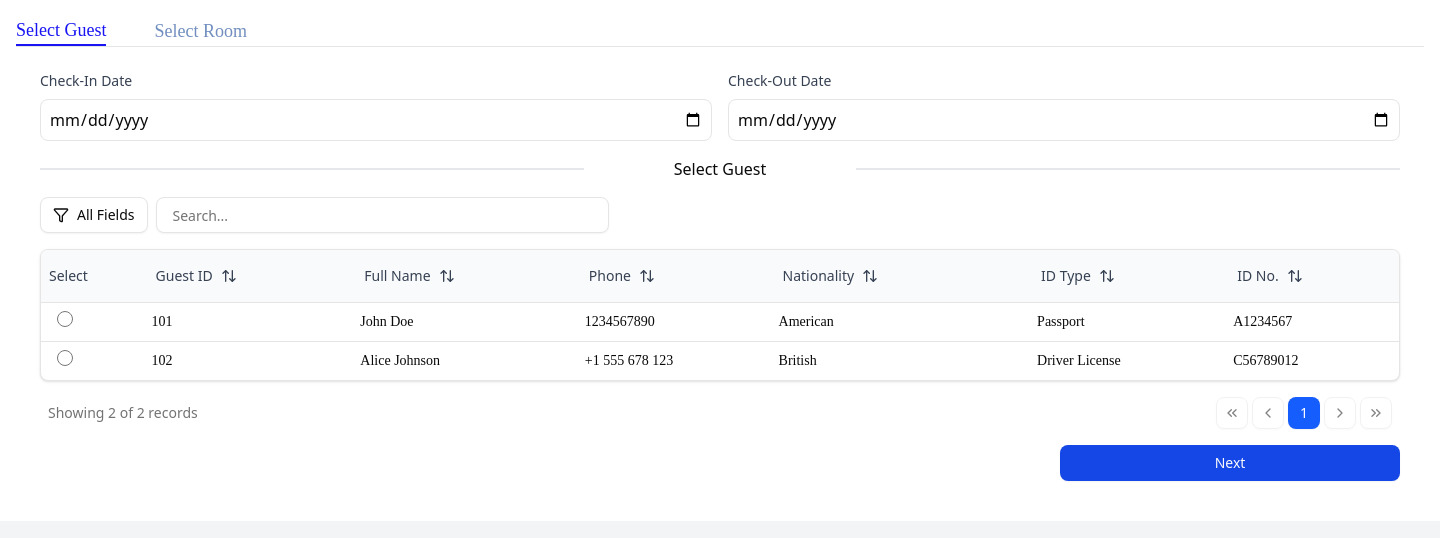
Test: ReservationCreation › transitions to room selection after valid guest selection
The width and height of the screenshot is (1440, 538).
Expected: the date field labelled "Check-Out Date" is shown, [728,99,1400,141]
Expected: the button with test id "next-button" is shown, [1060,445,1400,481]
Type "2025-04-21" into the date field labelled "Check-In Date" at {"x": 376, "y": 120}, box [40,99,712,141]
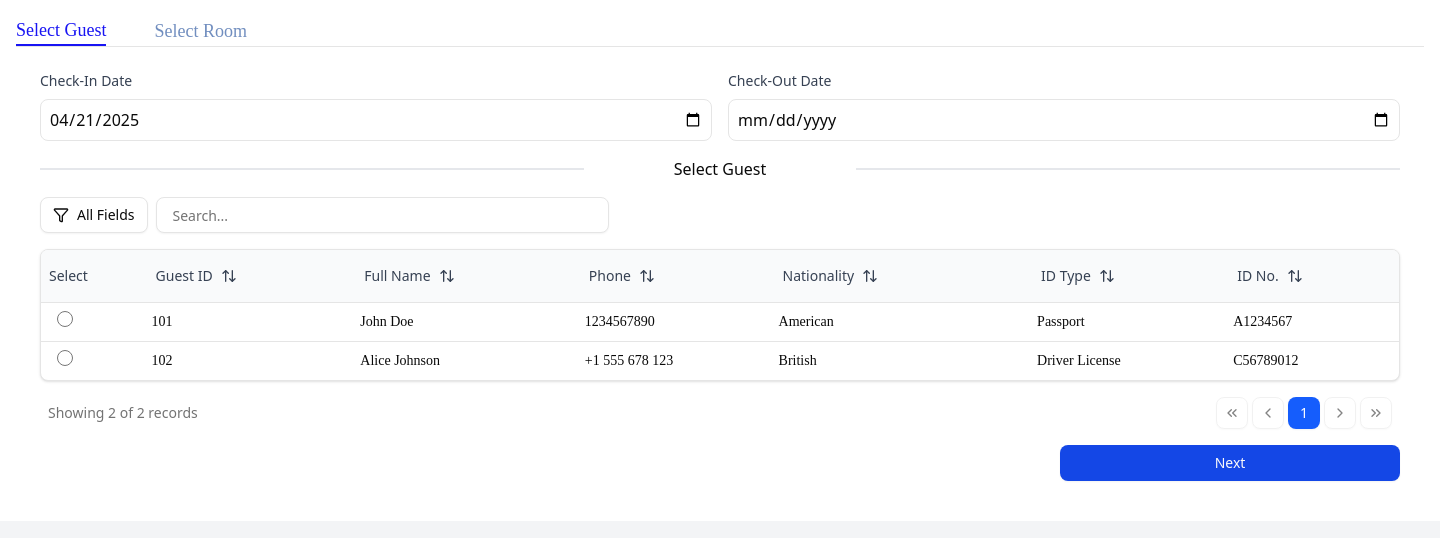
Type "2025-04-25" into the date field labelled "Check-Out Date" at {"x": 1064, "y": 120}, box [728,99,1400,141]
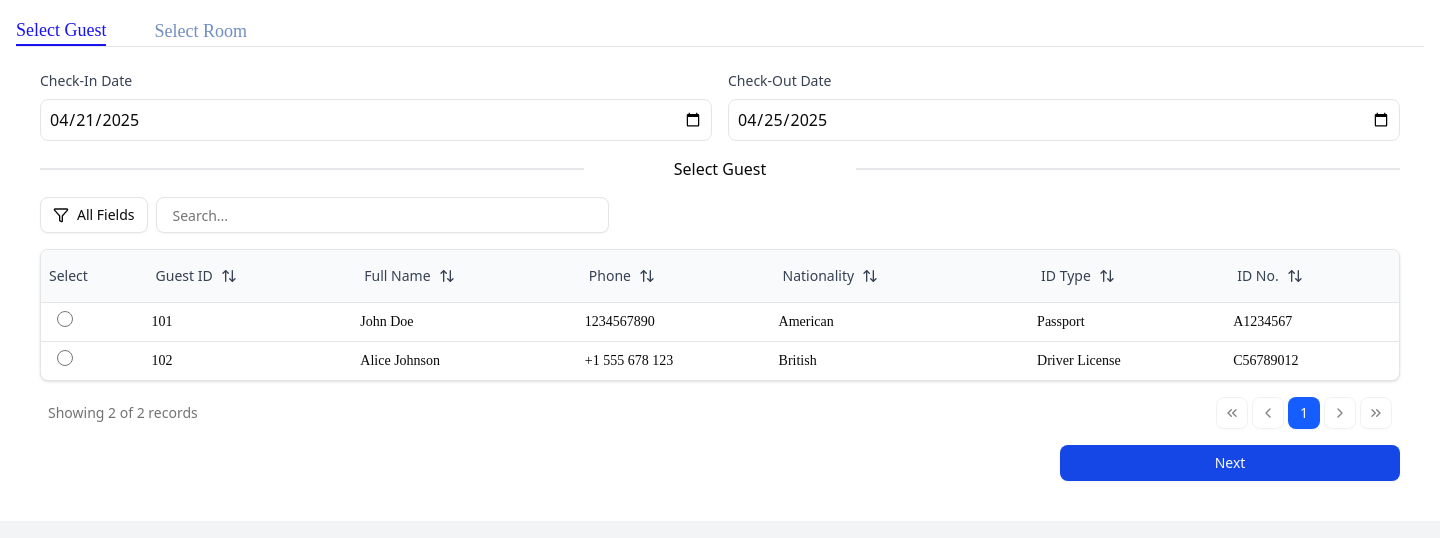
Click the radio button with test id "select-radio-102" at {"x": 65, "y": 358}, box [57,350,73,366]
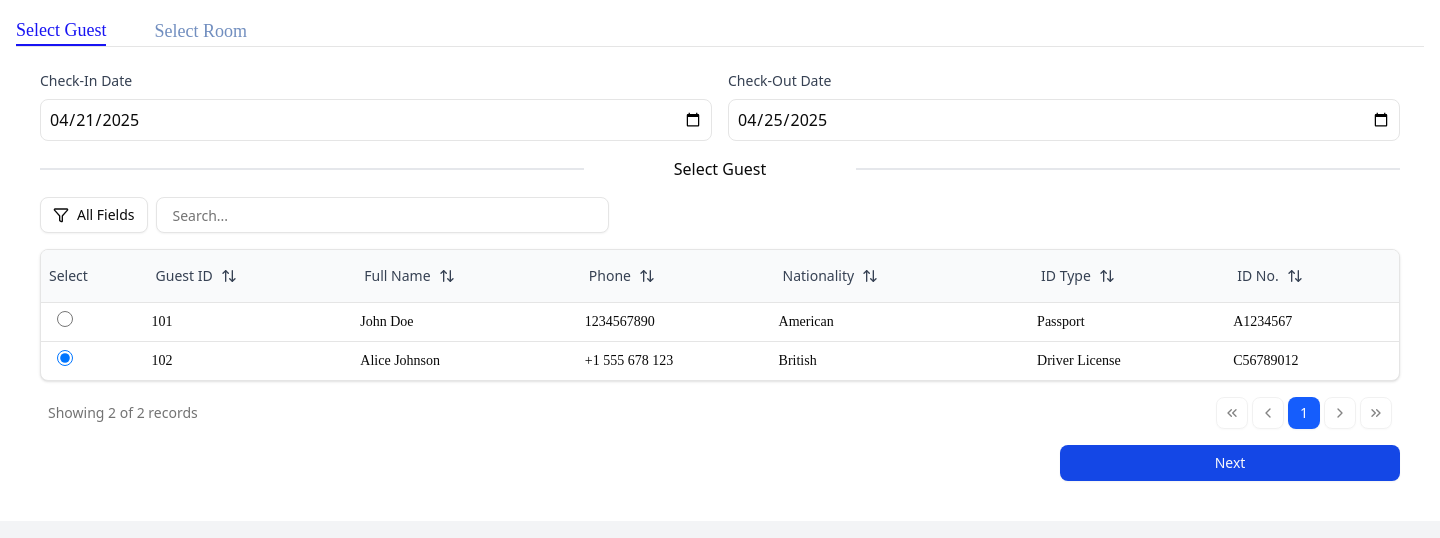
Click the button with test id "next-button" at {"x": 1230, "y": 463}, box [1060,445,1400,481]
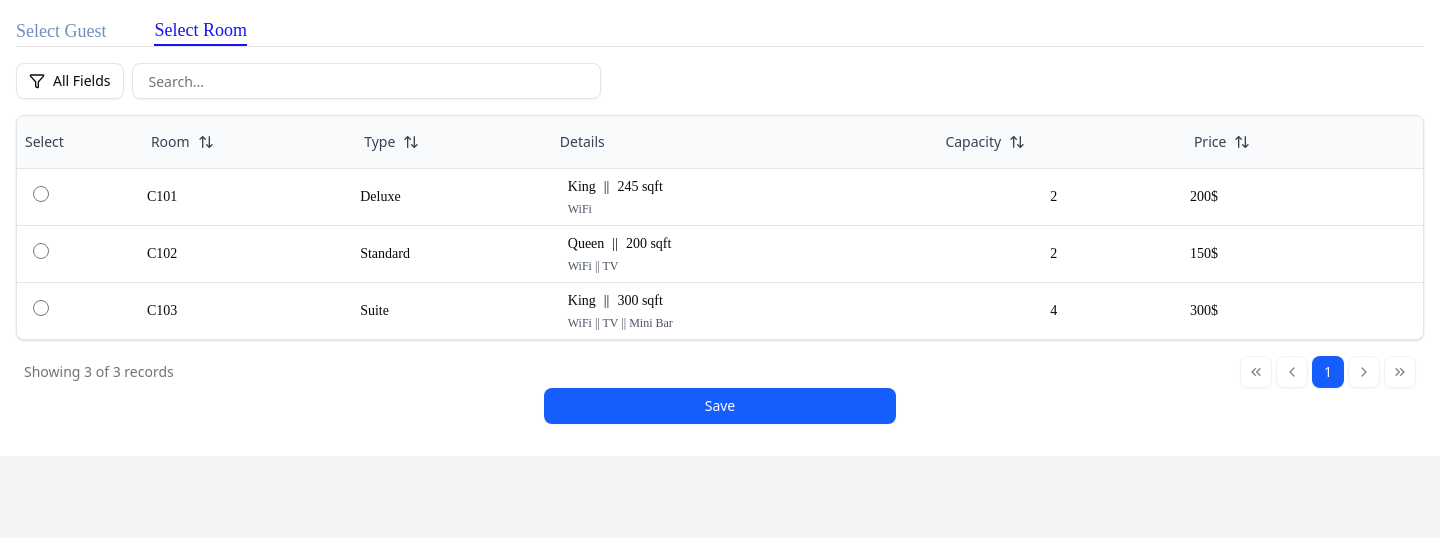
Now the text "C101" is shown, box [147,189,177,204]
Now the text "C102" is shown, box [147,246,177,261]
Now the text "C103" is shown, box [147,303,177,318]
